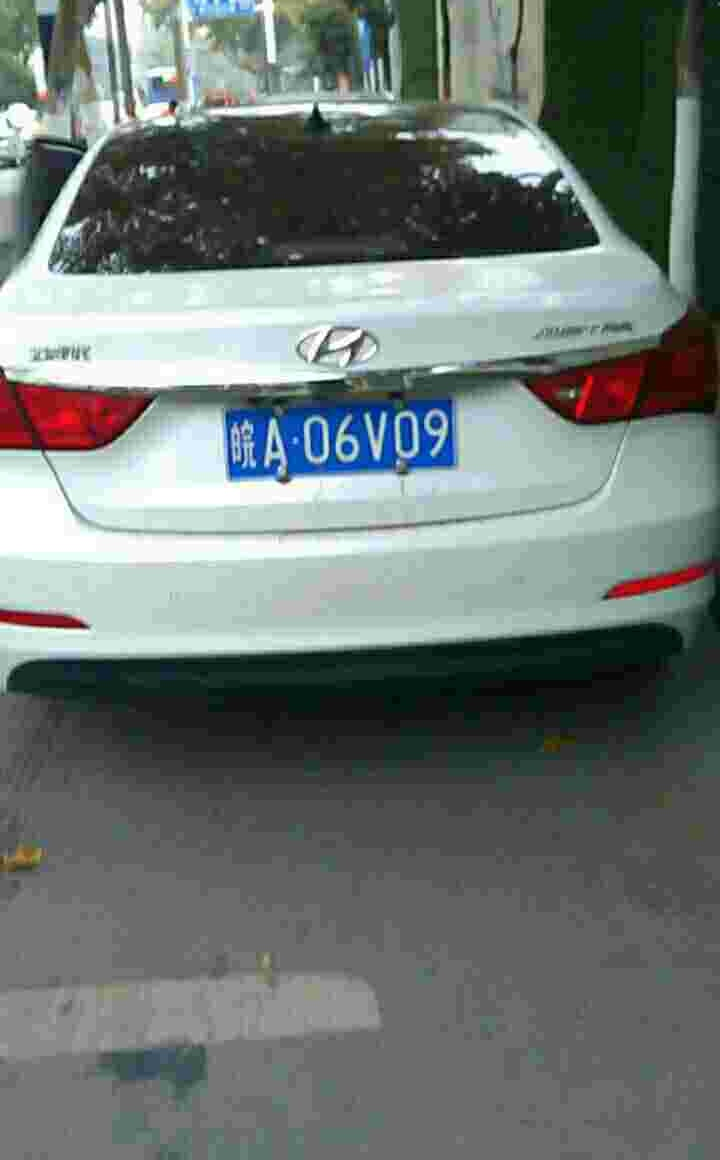plate: (225, 391, 463, 484)
